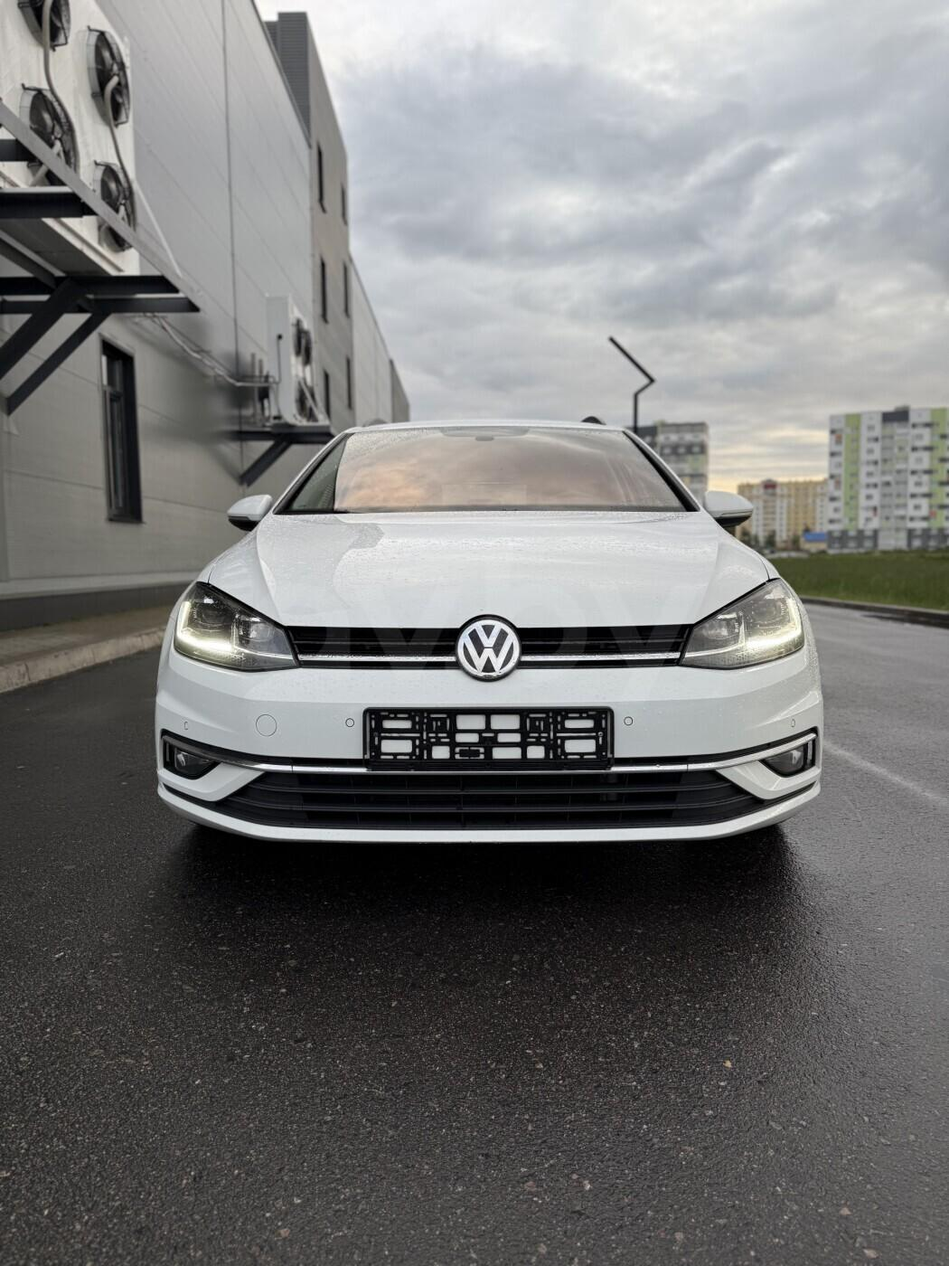Golf_2017-2021: (147, 412, 832, 875)
